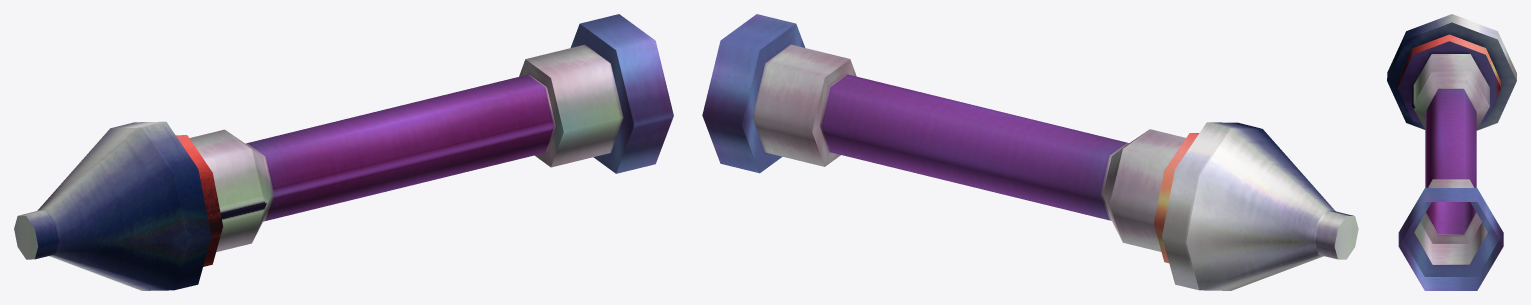
Rendered from weapon_boomcrossbow_nushi.FBX.
The picture shows the model from 3 angles, left to right: view 1: azimuth 30°, elevation 25°; view 2: azimuth 150°, elevation 25°; view 3: azimuth 270°, elevation 25°; orthographic projection. The views are drawn at different scales.
Parts seen in each view (by area): view 1: Object001; view 2: Object001; view 3: Object001.
Part boxes in pixels (<box>): Object001: <box>14,14,673,290</box>; Object001: <box>702,14,1358,290</box>; Object001: <box>1387,14,1516,290</box>.
Size of the model in its own units: 80.96 by 20.72 by 20.7.
